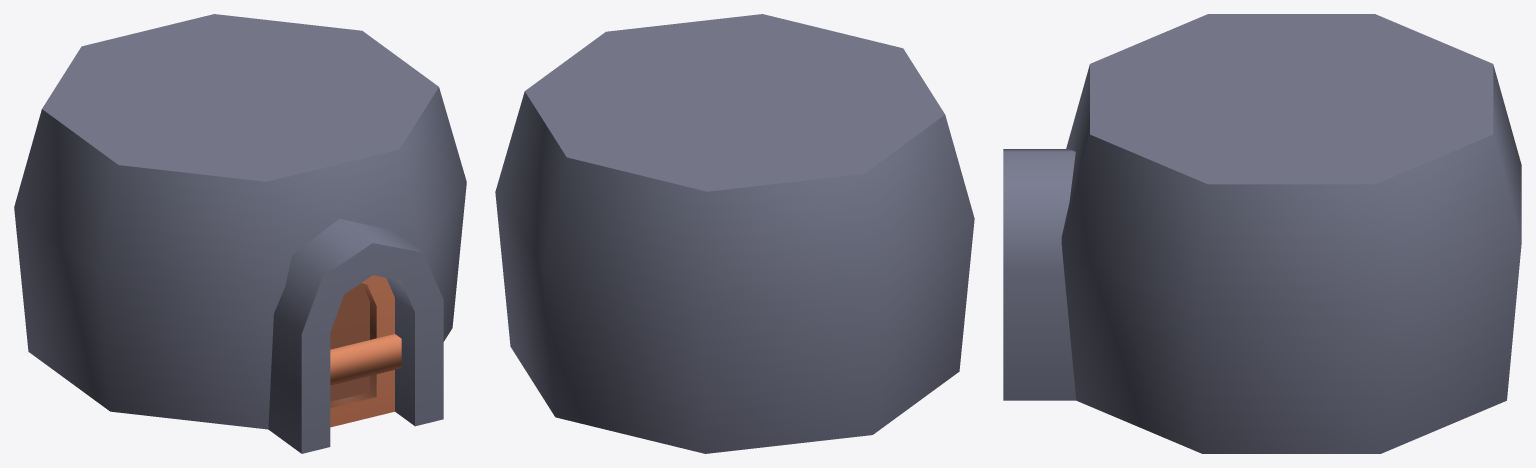
The model's file is pk_tower-base-door.glb.
The picture shows the model from 3 angles, left to right: view 1: azimuth 30°, elevation 25°; view 2: azimuth 150°, elevation 25°; view 3: azimuth 270°, elevation 25°; orthographic projection. The views are drawn at different scales.
Parts seen in each view (by area): view 1: tower-base-door; view 2: tower-base-door; view 3: tower-base-door.
Part boxes in pixels (bbox=[...]): tower-base-door: bbox=[14, 14, 466, 453]; tower-base-door: bbox=[495, 14, 974, 453]; tower-base-door: bbox=[1003, 14, 1521, 453].
Size of the model in its own units: 3.16 by 2 by 3.56.
Materials: 1 (1 with a texture image).
